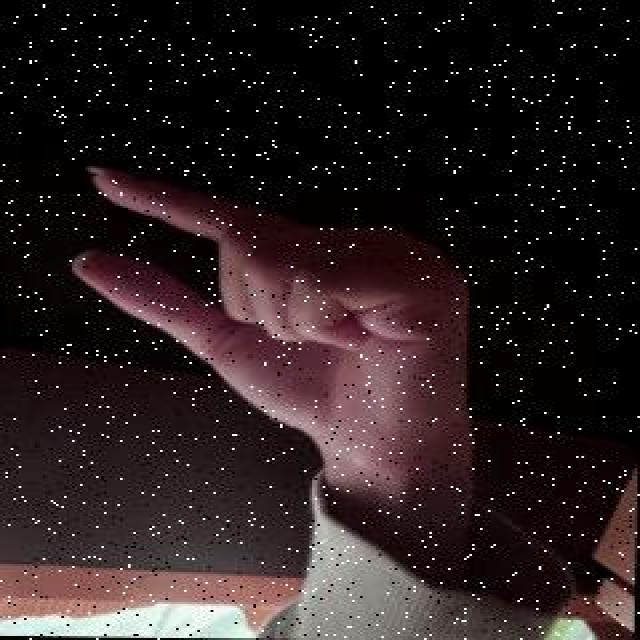G: (61, 161, 478, 479)
